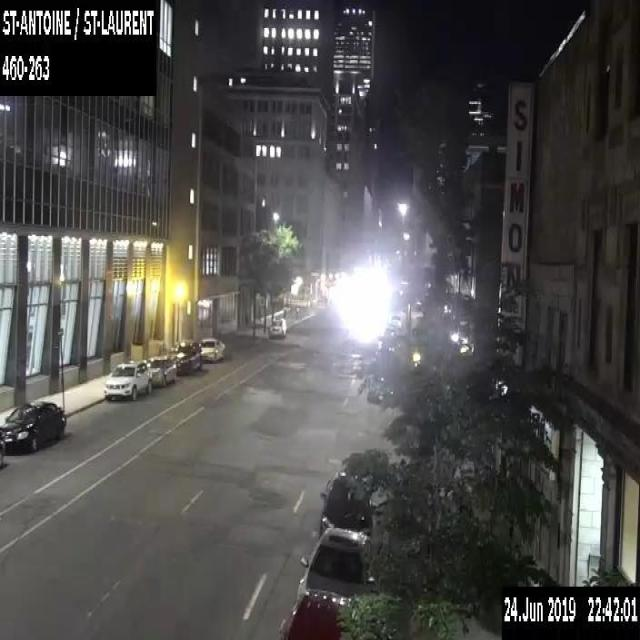vehicle: (296, 526, 374, 606), (0, 398, 66, 469), (320, 469, 378, 537), (277, 588, 353, 638), (103, 359, 152, 400), (341, 451, 378, 491), (167, 339, 203, 374), (145, 355, 176, 385), (199, 336, 225, 361), (267, 317, 286, 338), (0, 428, 5, 468)
